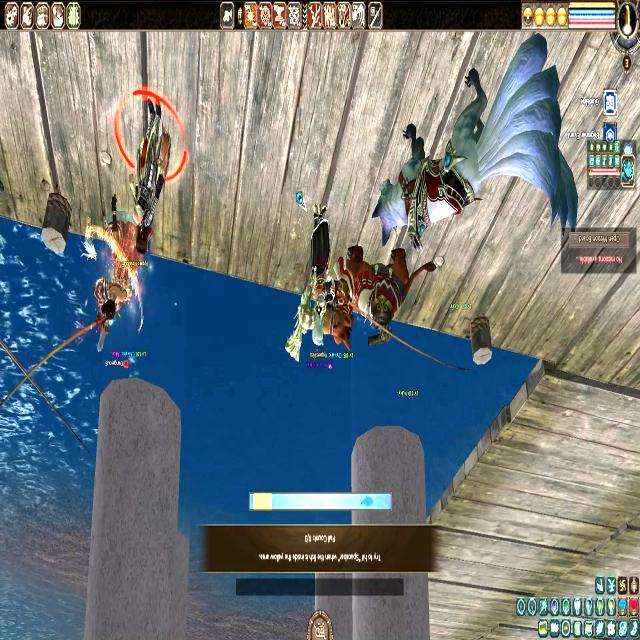fishes: (360, 496, 374, 508)
